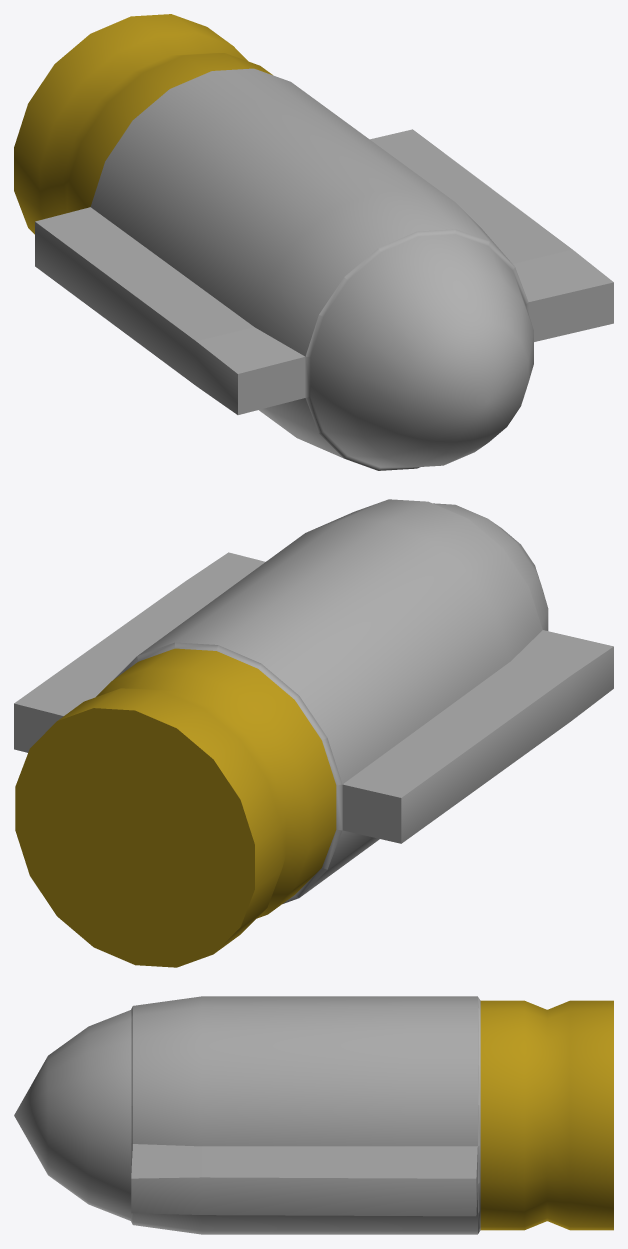
File: SM_Mini_Ammor.fbx
3 renders of one model, top to bottom at view 1: azimuth 30°, elevation 25°; view 2: azimuth 150°, elevation 25°; view 3: azimuth 270°, elevation 25°, orthographic. The views are drawn at different scales.
Visible parts, largest first — view 1: Plane006; view 2: Plane006; view 3: Plane006.
Boxes of the visible parts, x1,y1,x2,y2 form: Plane006: (14,14,613,470); Plane006: (14,499,613,967); Plane006: (14,996,613,1234).
Size of the model in its own units: 7.48 by 4.85 by 12.16.
